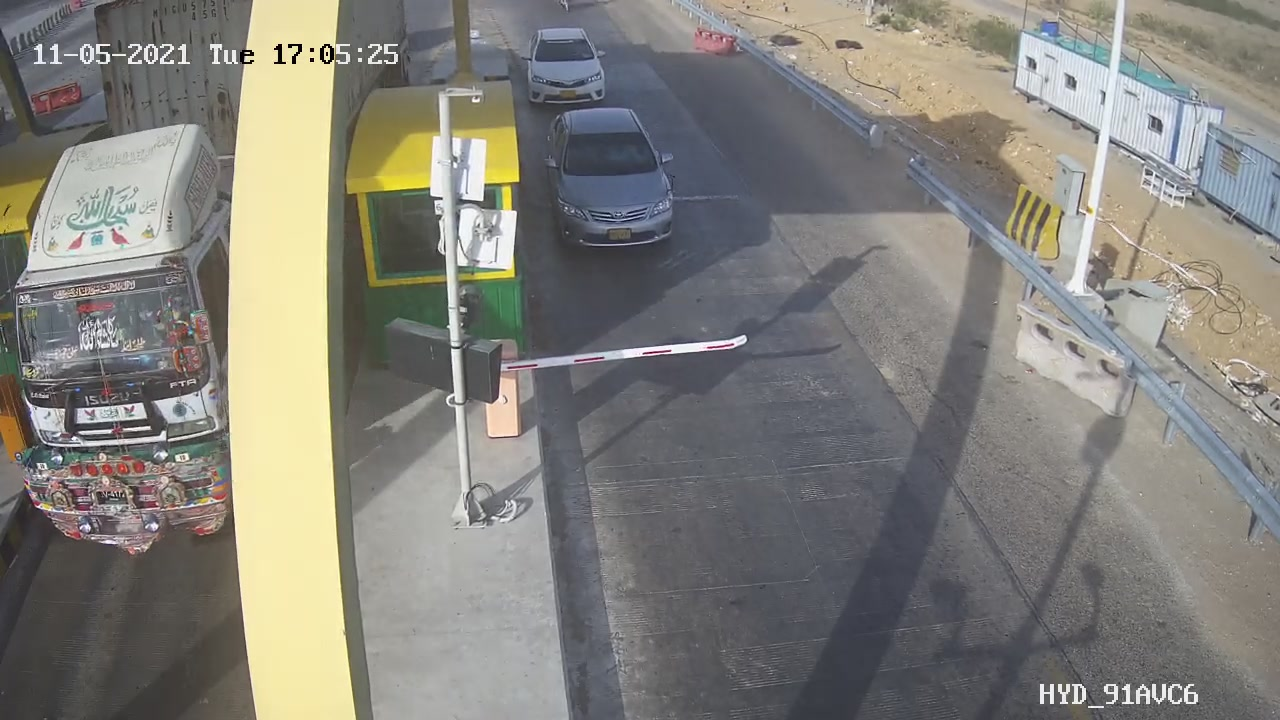F1: (524, 95, 707, 268), (507, 16, 622, 116)
